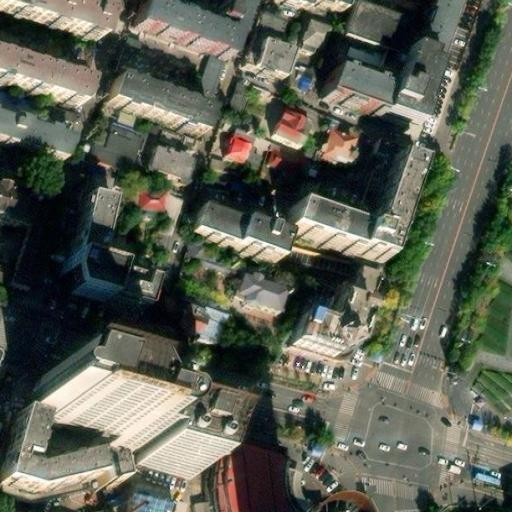building: (35, 407, 194, 495), (284, 166, 417, 260), (38, 378, 203, 452), (0, 411, 97, 501), (182, 438, 290, 512), (91, 192, 167, 288), (102, 73, 207, 134), (188, 204, 285, 264), (285, 301, 359, 370), (357, 145, 419, 220), (375, 48, 430, 125), (152, 296, 225, 349), (295, 141, 363, 193), (0, 108, 71, 157), (348, 5, 412, 58), (318, 65, 384, 112), (231, 268, 291, 316), (86, 124, 141, 171), (97, 273, 148, 322), (60, 261, 108, 311), (284, 464, 333, 512), (67, 198, 100, 268), (147, 194, 181, 257), (216, 74, 251, 135), (332, 263, 377, 310), (0, 175, 40, 224), (258, 144, 301, 189), (224, 131, 270, 173), (144, 153, 193, 192), (251, 45, 292, 86), (194, 51, 226, 98), (350, 43, 396, 72), (319, 121, 355, 154), (205, 129, 233, 168), (274, 113, 306, 147), (283, 59, 316, 91), (298, 24, 328, 58), (255, 7, 289, 36), (76, 175, 104, 202)
